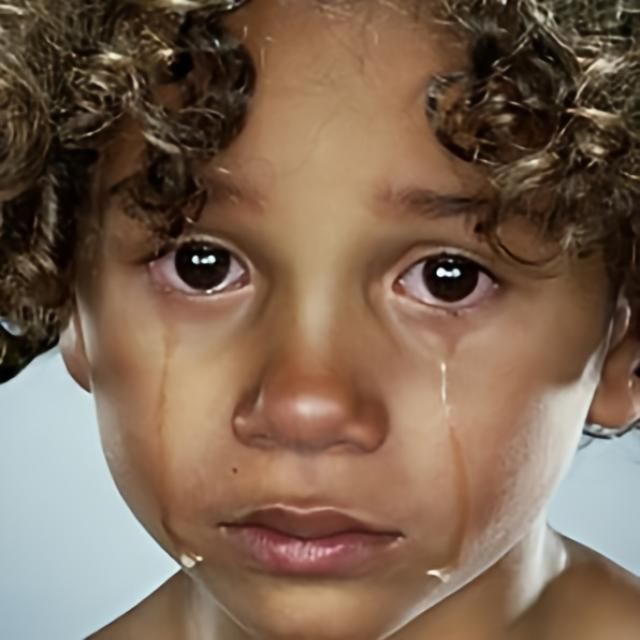sad: (73, 2, 614, 640)
